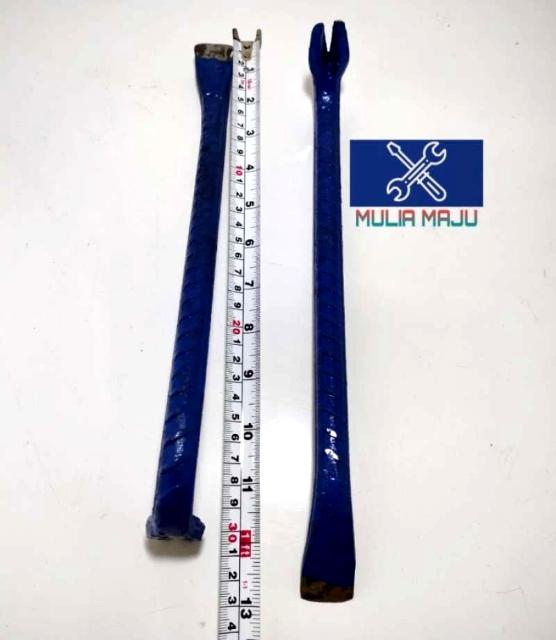crow bar: (145, 43, 235, 544), (302, 19, 352, 604)
